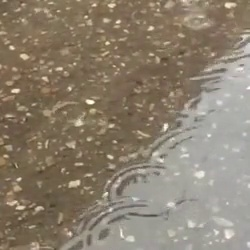drop: (79, 198, 166, 250), (107, 162, 183, 216), (143, 127, 197, 165), (55, 102, 84, 122), (184, 15, 209, 30)
